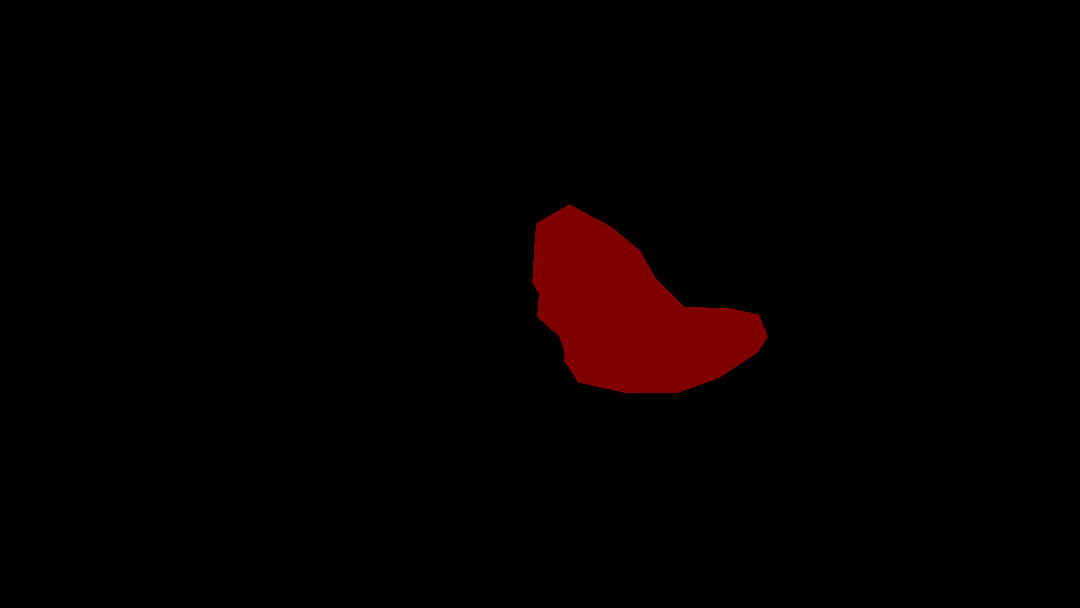fire: (532, 204, 767, 393)
